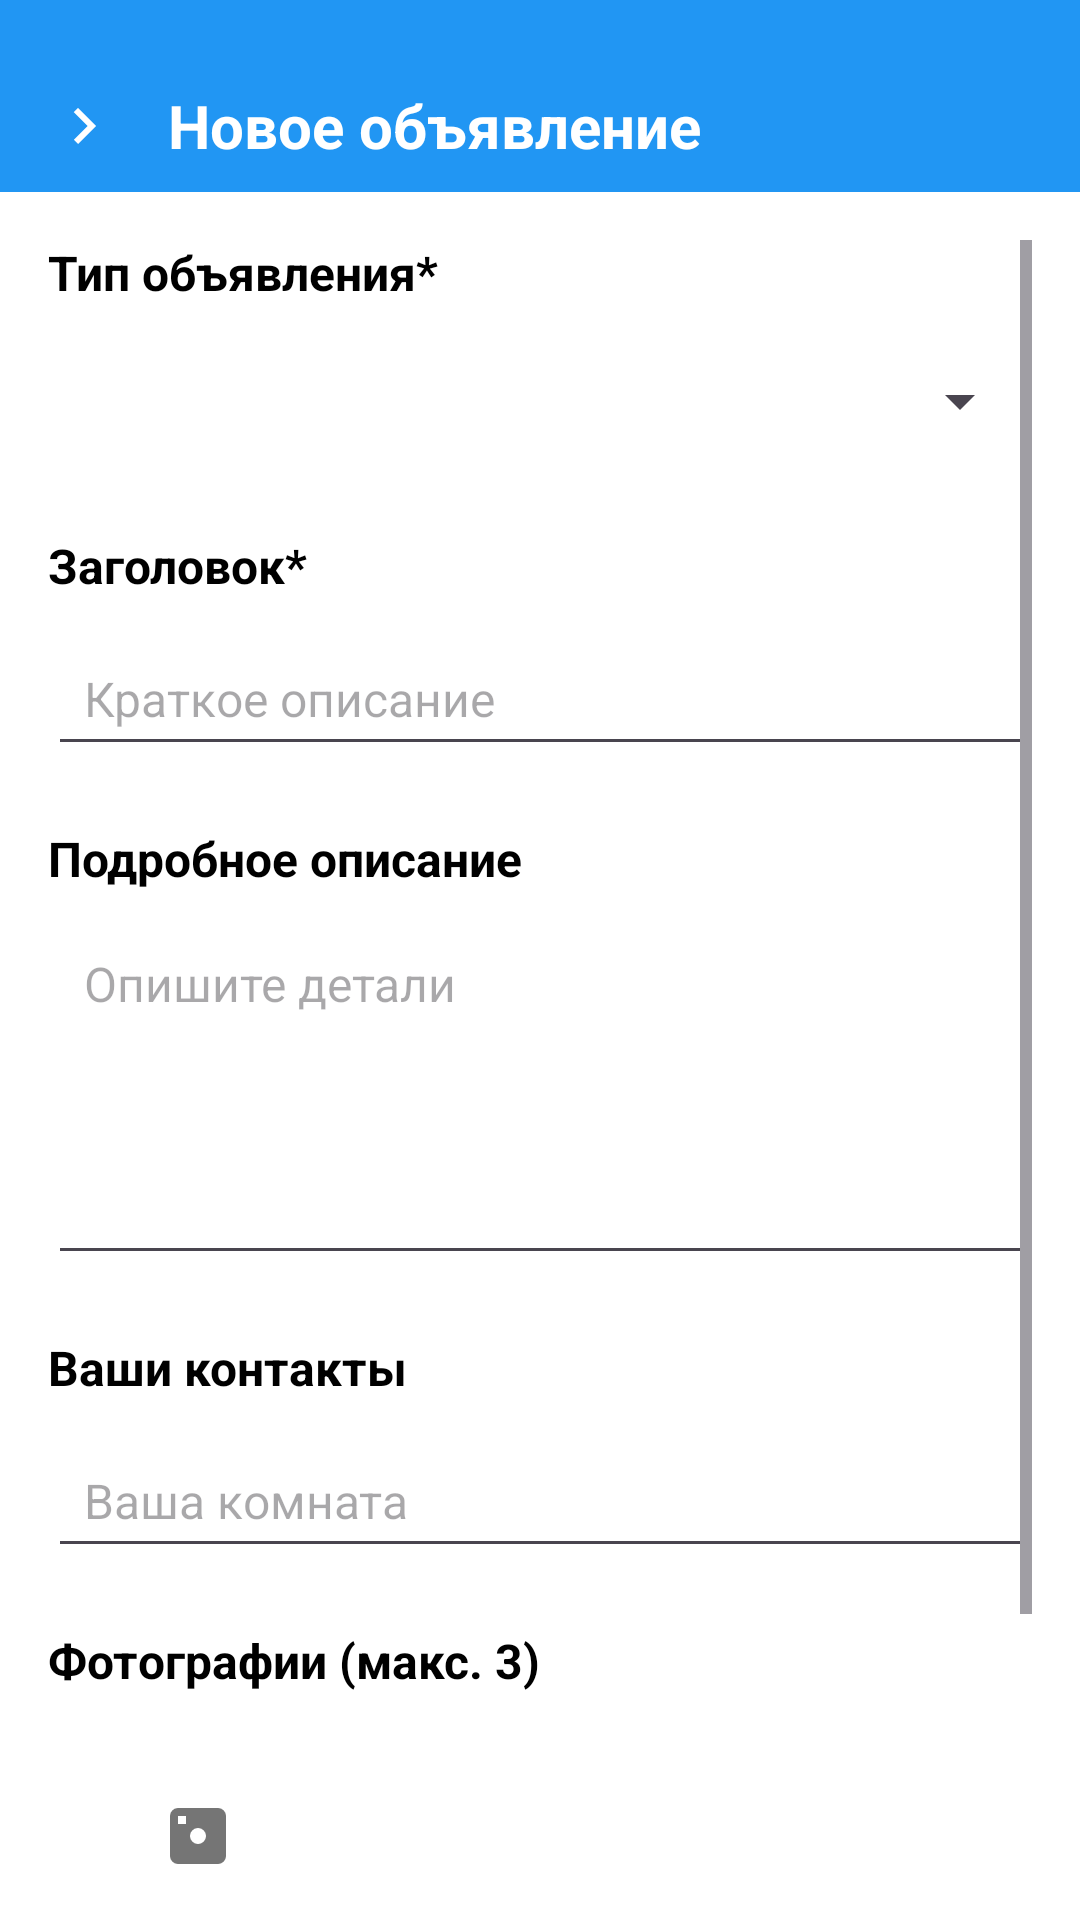

Point at icon controls on the screen. Image size 1080 × 1920, points as point (x, y).
arrow right: point (85, 126)
camera: point (198, 1836)
